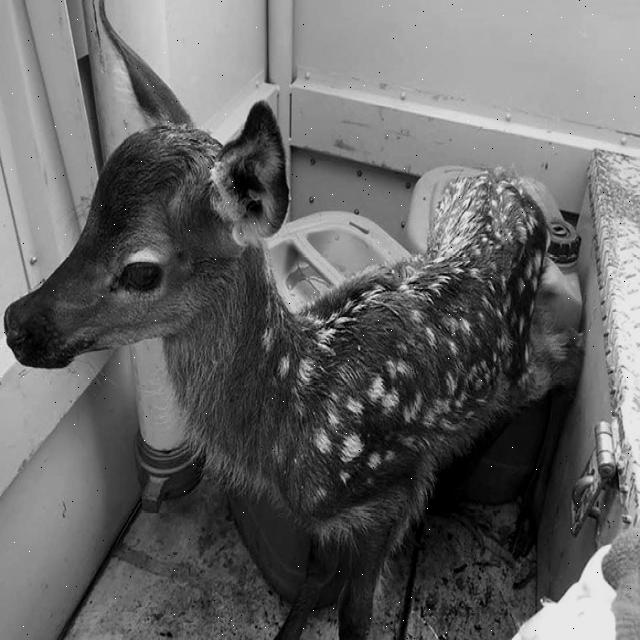deer: (3, 1, 309, 438)
